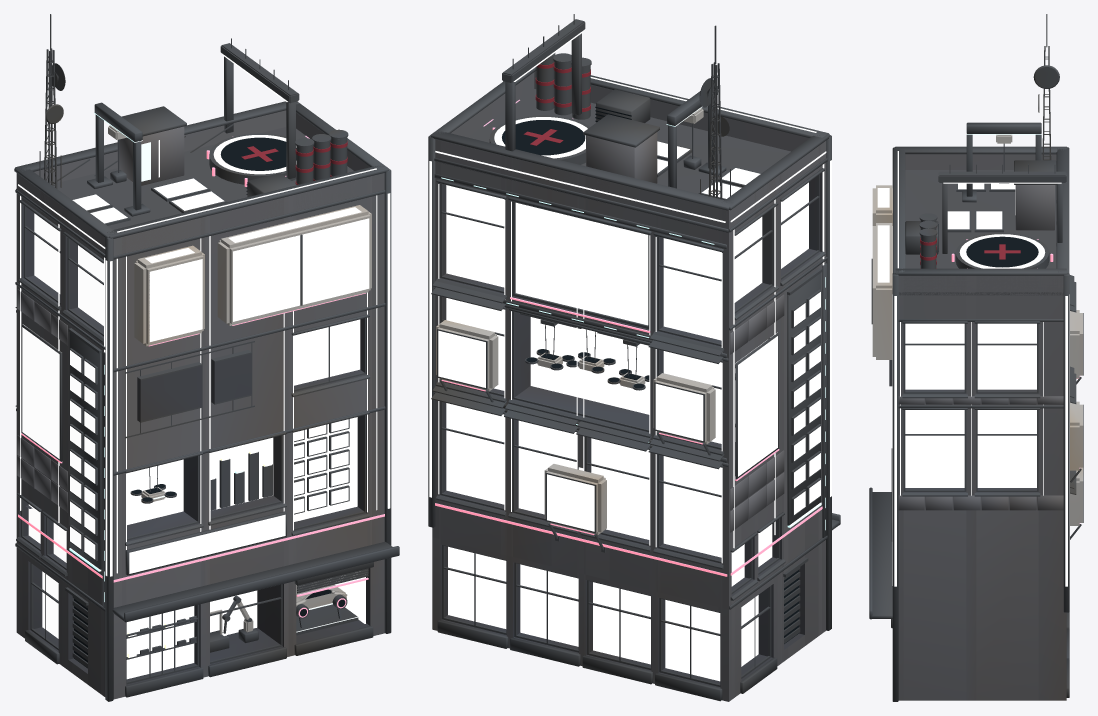
File: depot290.glb
3 renders of one model, left to right at view 1: azimuth 30°, elevation 25°; view 2: azimuth 150°, elevation 25°; view 3: azimuth 270°, elevation 25°, orthographic. The views are drawn at different scales.
Parts seen in each view (by area): view 1: fd-wall, fd-steel, fd-wall2, fd-roomc, fd-led, fd-room0, fd-pearl, fd-room1, fd-screen, fd-roof, fd-shop, fd-poster (+6 smaller); view 2: fd-steel, fd-wall, fd-room1, fd-wall2, fd-poster, fd-roomc, fd-shop, fd-room0, fd-led, fd-roof, fd-pearl, fd-dark (+4 smaller); view 3: fd-wall, fd-steel, fd-roomc, fd-roof, fd-pearl, fd-led, fd-room1, fd-dark, fd-lamp, fd-wall2, fd-paint.
Part boxes in pixels (x1,y1,x2,y2): fd-wall: (16, 110, 384, 699); fd-steel: (14, 14, 399, 701); fd-wall2: (19, 204, 370, 685); fd-roomc: (53, 235, 357, 562); fd-led: (18, 54, 390, 623); fd-room0: (34, 213, 369, 385); fd-pearl: (28, 125, 371, 634); fd-room1: (28, 259, 273, 638); fd-screen: (70, 350, 348, 559); fd-roof: (53, 127, 368, 259); fd-shop: (126, 590, 257, 679); fd-poster: (22, 327, 59, 458); fd-steel: (428, 14, 840, 701); fd-wall: (432, 71, 825, 701); fd-room1: (438, 185, 758, 666); fd-wall2: (439, 173, 821, 688); fd-poster: (515, 202, 777, 476); fd-roomc: (530, 182, 808, 566); fd-shop: (448, 546, 720, 681); fd-room0: (446, 217, 762, 531); fd-led: (429, 31, 831, 564); fd-roof: (436, 89, 790, 232); fd-pearl: (436, 108, 715, 534); fd-dark: (502, 106, 798, 643); fd-wall: (898, 154, 1066, 700); fd-steel: (869, 14, 1083, 701); fd-roomc: (905, 323, 1036, 487); fd-roof: (899, 170, 1063, 295); fd-pearl: (872, 134, 1082, 525); fd-led: (877, 151, 1069, 586); fd-room1: (905, 410, 964, 487); fd-dark: (938, 224, 1038, 267); fd-lamp: (947, 183, 1015, 229); fd-wall2: (889, 360, 1038, 492); fd-paint: (920, 238, 1020, 268).
Size of the model in its own units: 9.23 by 19.2 by 6.52.
